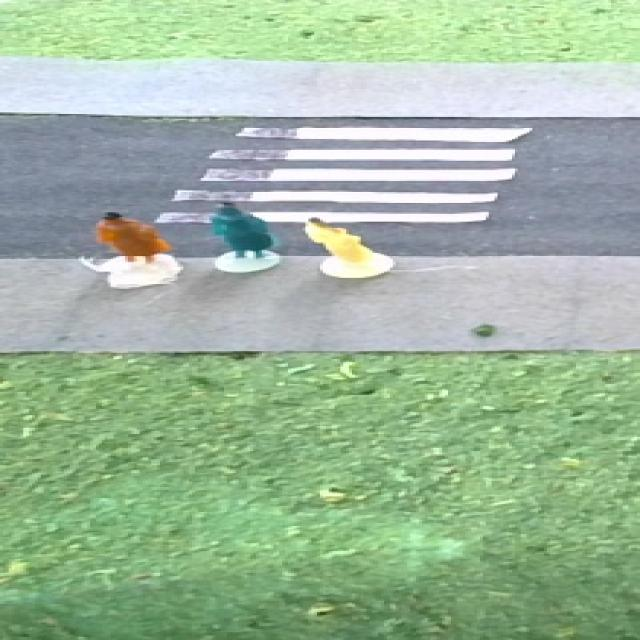person: (92, 206, 181, 291), (299, 215, 398, 280), (200, 199, 282, 275)
